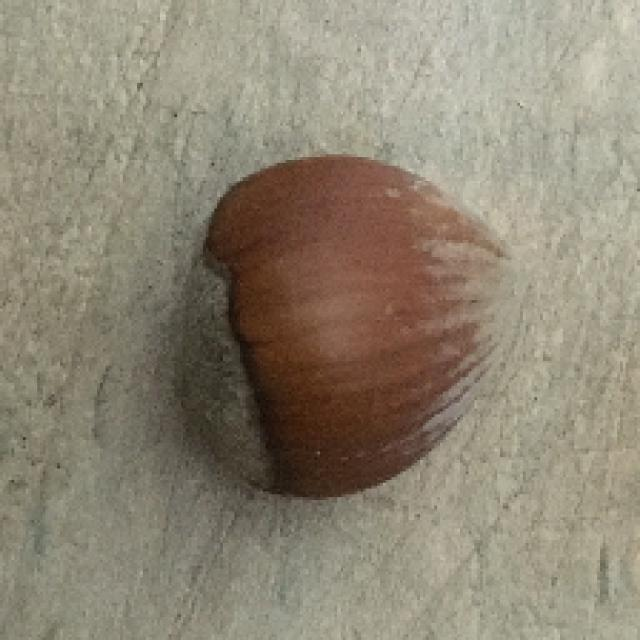qualityHazelnut: (169, 153, 519, 505)
